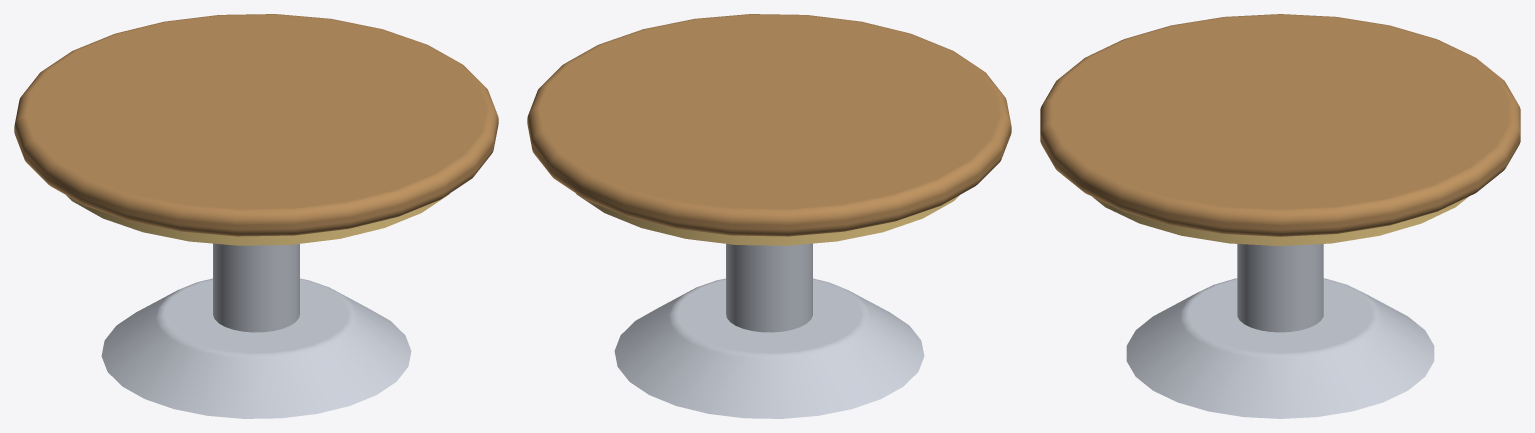
The model's file is DiningTable.glb.
3 views of the same model, side by side, from view 1: azimuth 30°, elevation 25°; view 2: azimuth 150°, elevation 25°; view 3: azimuth 270°, elevation 25° (orthographic).
Visible parts, largest first — view 1: tableWood, metalLight (×2), counterTrim; view 2: tableWood, metalLight (×2), counterTrim; view 3: tableWood, metalLight (×2), counterTrim.
Boxes of the visible parts, x1=… form: tableWood: x1=14, y1=14, x2=498, y2=236; metalLight (×2): x1=101, y1=243, x2=411, y2=418; counterTrim: x1=66, y1=193, x2=449, y2=245; tableWood: x1=527, y1=14, x2=1011, y2=236; metalLight (×2): x1=614, y1=243, x2=924, y2=418; counterTrim: x1=576, y1=193, x2=959, y2=245; tableWood: x1=1040, y1=14, x2=1520, y2=236; metalLight (×2): x1=1126, y1=244, x2=1434, y2=418; counterTrim: x1=1093, y1=197, x2=1467, y2=245.
Size of the model in its own units: 1 by 0.55 by 0.9927.
